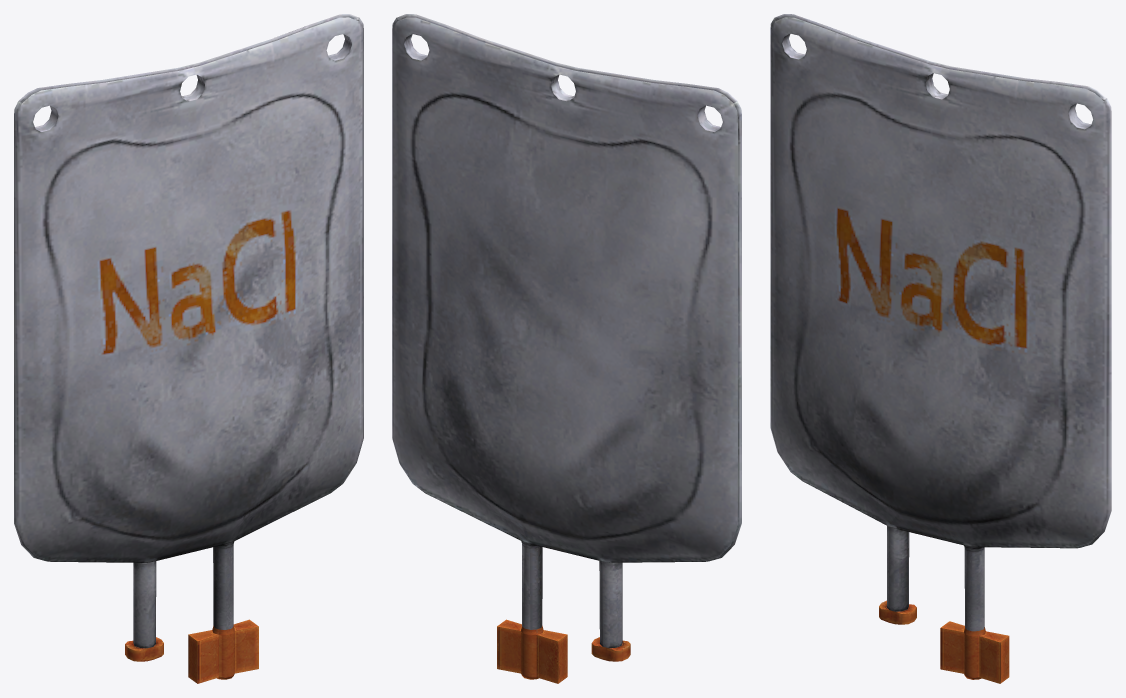
File: dripbag_nacl.DAE
The picture shows the model from 3 angles, left to right: view 1: azimuth 30°, elevation 25°; view 2: azimuth 150°, elevation 25°; view 3: azimuth 330°, elevation 25°; orthographic projection. The views are drawn at different scales.
Size of the model in its own units: 0.2292 by 0.3962 by 0.0363.
